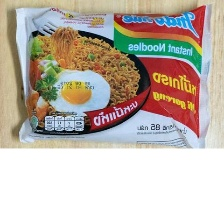snack: (8, 0, 219, 148)
